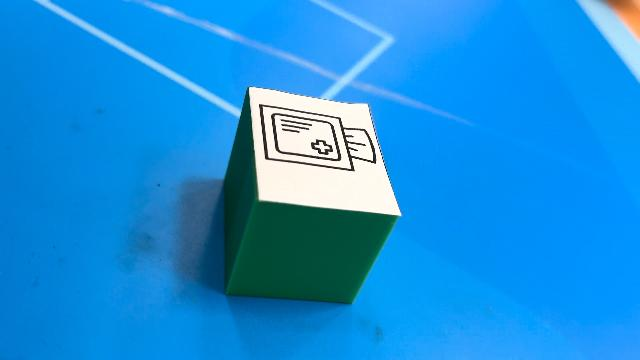napkin: (220, 84, 404, 306)
